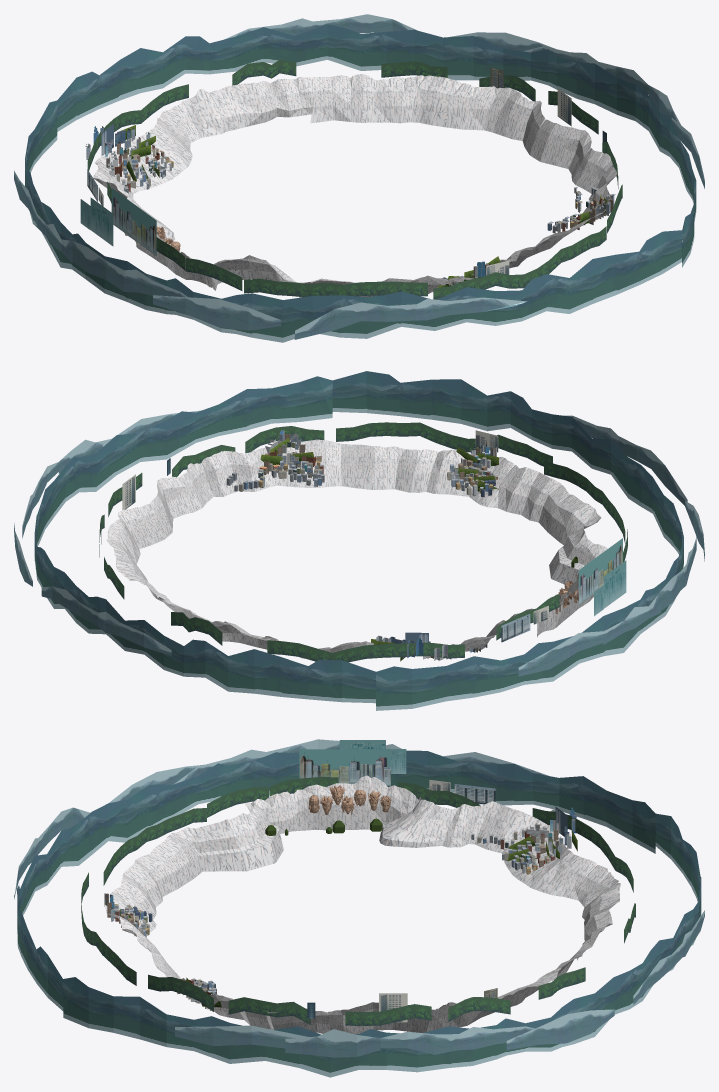
Rendered from SM_ENV_KNVLLG_RockWall_Set_01.fbx.
3 renders of one model, top to bottom at view 1: azimuth 30°, elevation 25°; view 2: azimuth 150°, elevation 25°; view 3: azimuth 270°, elevation 25°, orthographic. The views are drawn at different scales.
Visible parts, largest first — view 1: SM_ENV_KNVLLG_RockWall_Set_01.mo; view 2: SM_ENV_KNVLLG_RockWall_Set_01.mo; view 3: SM_ENV_KNVLLG_RockWall_Set_01.mo.
Part boxes in pixels (bbox=[...]): SM_ENV_KNVLLG_RockWall_Set_01.mo: bbox=[14, 14, 704, 342]; SM_ENV_KNVLLG_RockWall_Set_01.mo: bbox=[14, 371, 704, 710]; SM_ENV_KNVLLG_RockWall_Set_01.mo: bbox=[14, 739, 704, 1077].
Size of the model in its own units: 450134 by 51607 by 445114.
